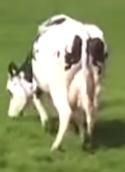cow: (7, 15, 107, 152)
